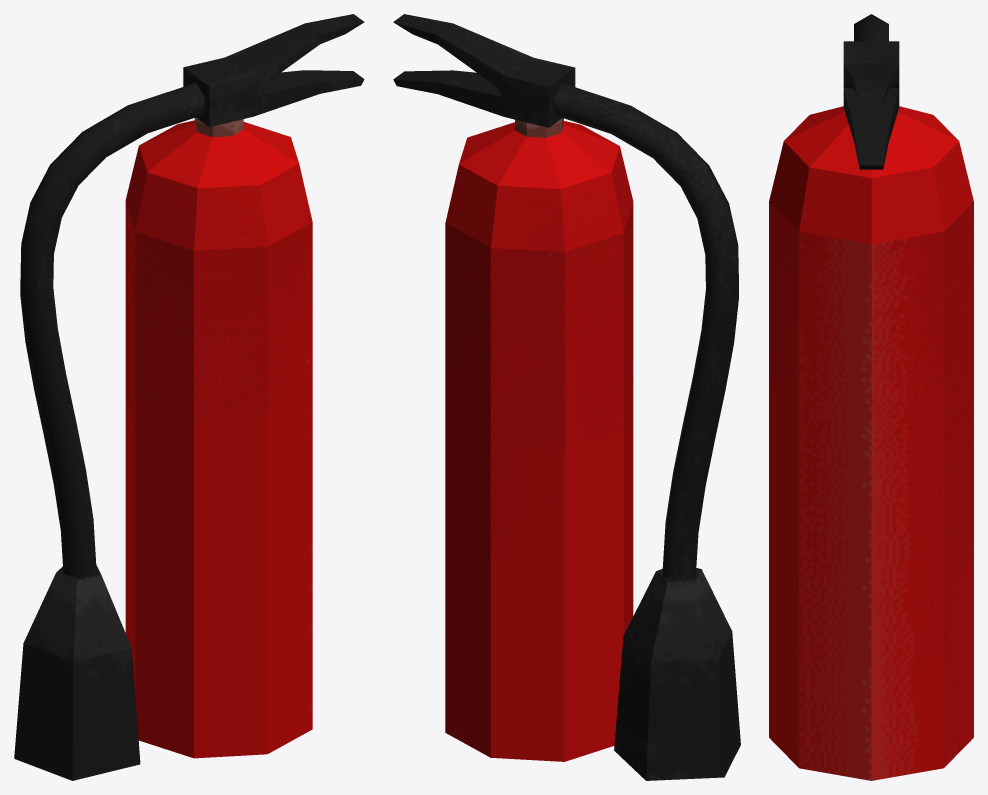
The model's file is fire_extinguisher.fbx.
The picture shows the model from 3 angles, left to right: view 1: azimuth 30°, elevation 25°; view 2: azimuth 150°, elevation 25°; view 3: azimuth 270°, elevation 25°; orthographic projection. The views are drawn at different scales.
Parts seen in each view (by area): view 1: FireExtinguisher; view 2: FireExtinguisher; view 3: FireExtinguisher.
Part boxes in pixels (x1,y1,x2,y2): FireExtinguisher: (14,14,364,780); FireExtinguisher: (393,14,740,780); FireExtinguisher: (769,14,973,780).
Bounding box in the file's own units: 30.91 × 58.12 × 15.3.
1 material, 1 textured.
